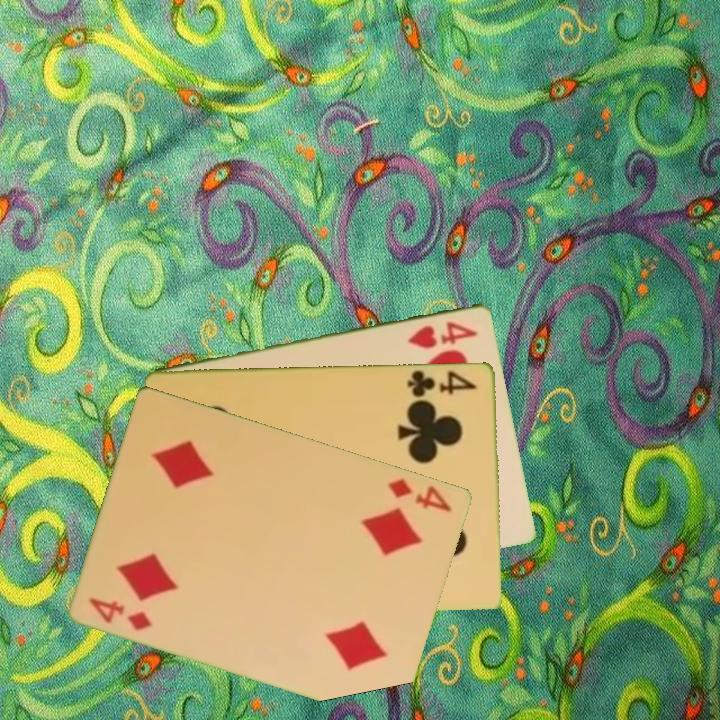4c: (404, 366, 481, 400)
4d: (385, 474, 455, 515), (86, 594, 155, 633)
4h: (404, 317, 481, 351)
